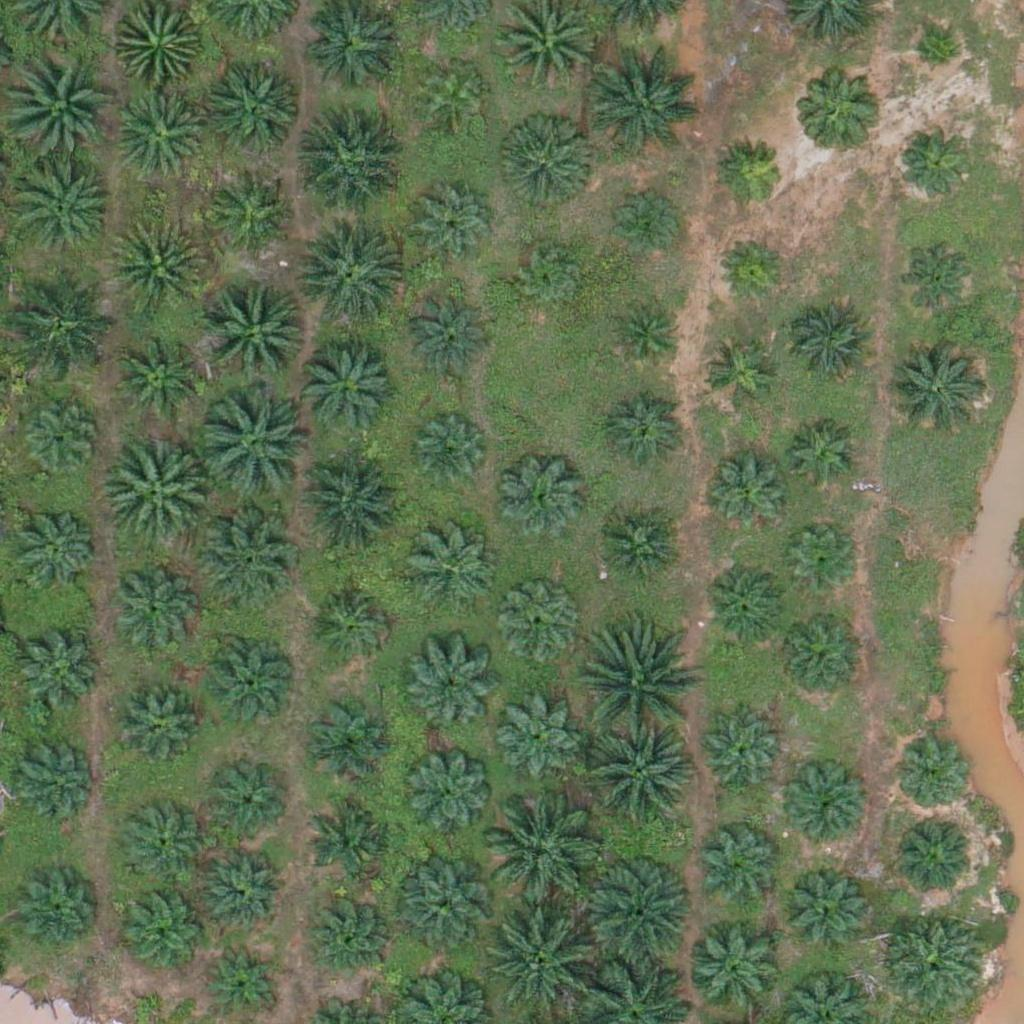Kelapa_Sawit: (576, 853, 689, 967), (583, 630, 696, 743), (288, 455, 401, 568), (197, 392, 310, 505), (8, 264, 121, 377), (203, 277, 315, 391), (581, 723, 693, 836), (488, 908, 600, 1021), (484, 796, 596, 909), (97, 436, 209, 549), (7, 153, 119, 266), (2, 43, 114, 156), (289, 106, 401, 219), (290, 220, 402, 333), (591, 46, 703, 159), (886, 340, 986, 441), (884, 909, 984, 1010), (393, 863, 493, 964), (297, 342, 397, 443), (194, 509, 294, 610), (106, 217, 206, 318), (205, 61, 305, 162), (690, 920, 790, 1020), (497, 111, 597, 211), (703, 446, 791, 535), (895, 234, 983, 323), (601, 390, 689, 478), (589, 506, 677, 594), (773, 613, 861, 701), (696, 823, 784, 911), (405, 649, 493, 737), (405, 750, 493, 838), (19, 395, 107, 483), (8, 502, 96, 590), (12, 630, 100, 718), (5, 732, 93, 820), (107, 680, 195, 768), (205, 635, 293, 723), (306, 581, 394, 669), (495, 582, 583, 670), (117, 87, 205, 175), (113, 338, 201, 426), (211, 162, 299, 250), (404, 295, 492, 383), (411, 177, 499, 265), (795, 60, 883, 148), (789, 299, 877, 387), (702, 561, 789, 649), (695, 709, 782, 797), (784, 766, 871, 854), (891, 812, 978, 900), (780, 861, 867, 949), (12, 867, 99, 955), (122, 884, 209, 972), (118, 799, 205, 887), (109, 563, 196, 651), (203, 760, 290, 848), (204, 844, 291, 932), (302, 888, 389, 976), (310, 791, 397, 879), (302, 694, 389, 782), (497, 453, 584, 541), (494, 695, 581, 783), (408, 526, 495, 614), (893, 116, 980, 204), (412, 416, 487, 492), (610, 187, 685, 263), (785, 526, 860, 602), (205, 941, 280, 1017), (894, 739, 969, 815), (608, 299, 683, 375), (715, 137, 790, 212), (416, 58, 491, 133), (700, 337, 775, 412), (514, 242, 589, 317), (788, 421, 863, 496), (715, 233, 790, 308), (912, 31, 962, 81)
